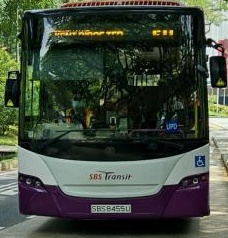bus: (145, 22, 176, 39)
